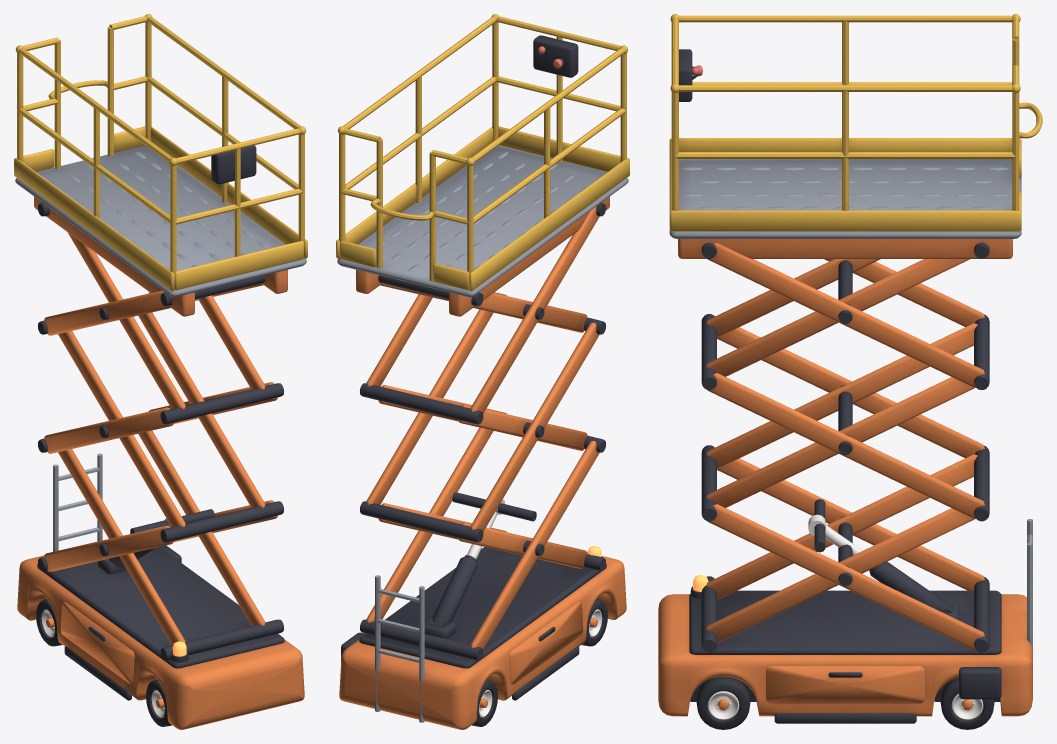
The model's file is scissor-lift.glb.
3 views of the same model, side by side, from view 1: azimuth 30°, elevation 25°; view 2: azimuth 150°, elevation 25°; view 3: azimuth 270°, elevation 25° (orthographic). The views are drawn at different scales.
Visible parts, largest first — view 1: scissor-lift_body, scissor-lift_wheel_rr, scissor-lift_wheel_fr; view 2: scissor-lift_body, scissor-lift_wheel_fr, scissor-lift_wheel_rr; view 3: scissor-lift_body, scissor-lift_wheel_fl, scissor-lift_wheel_rl.
Part boxes in pixels (x1,y1,x2,y2): scissor-lift_body: (14,14,307,729); scissor-lift_wheel_rr: (36,599,62,646); scissor-lift_wheel_fr: (146,679,171,726); scissor-lift_body: (336,14,629,729); scissor-lift_wheel_fr: (581,599,607,646); scissor-lift_wheel_rr: (472,679,497,726); scissor-lift_body: (658,14,1042,723); scissor-lift_wheel_fl: (696,676,750,729); scissor-lift_wheel_rl: (940,677,994,729).
Size of the model in its own units: 1.28 by 5.05 by 2.71.
14 materials, 1 textured.
